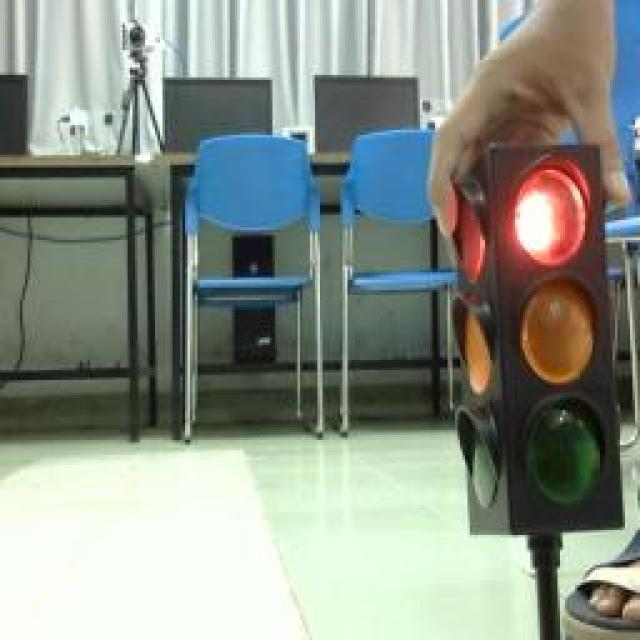-: (505, 155, 602, 272)
